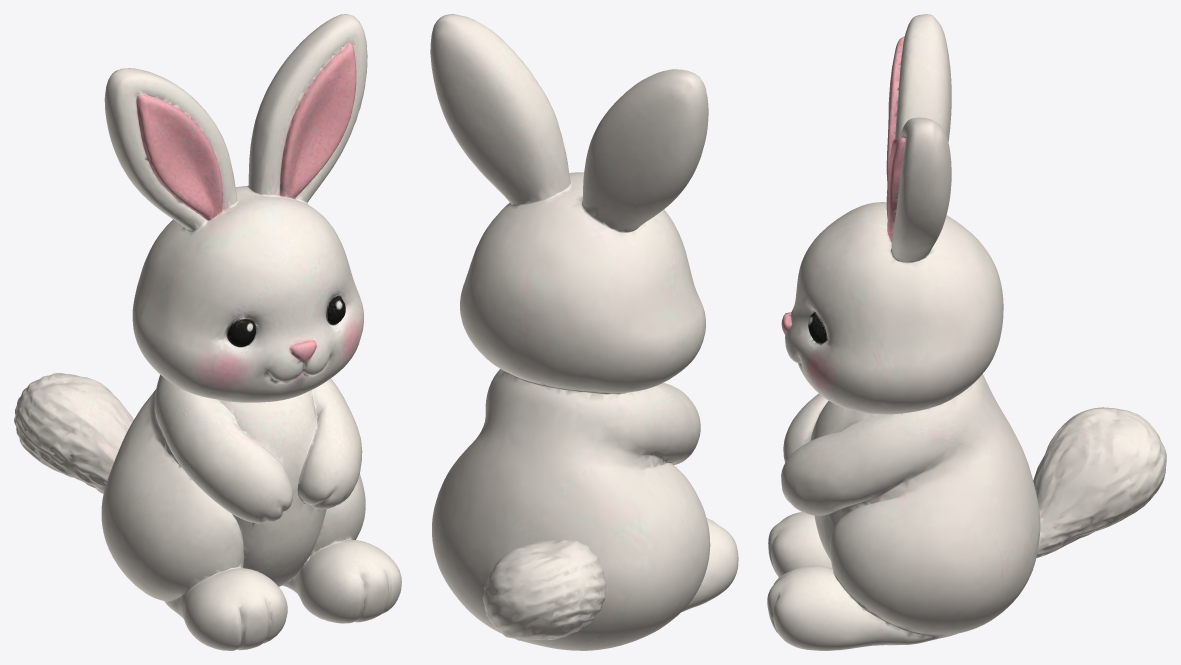
3 views of the same model, side by side, from view 1: azimuth 30°, elevation 25°; view 2: azimuth 150°, elevation 25°; view 3: azimuth 270°, elevation 25° (orthographic). The views are drawn at different scales.
Size of the model in its own units: 0.9351 by 1.9 by 1.28.
1 material, 1 textured.
